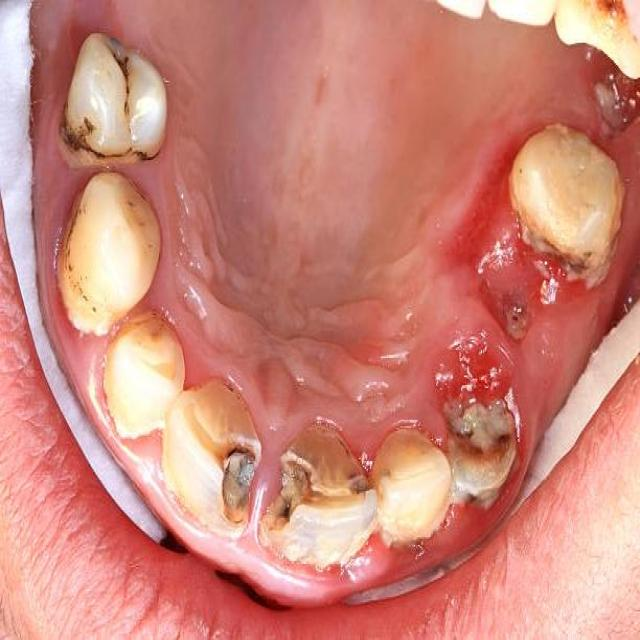caries: (263, 455, 326, 542), (448, 408, 522, 478), (218, 444, 262, 526), (59, 100, 107, 166), (105, 30, 139, 118), (339, 430, 374, 502), (126, 137, 164, 174), (504, 301, 535, 330)
